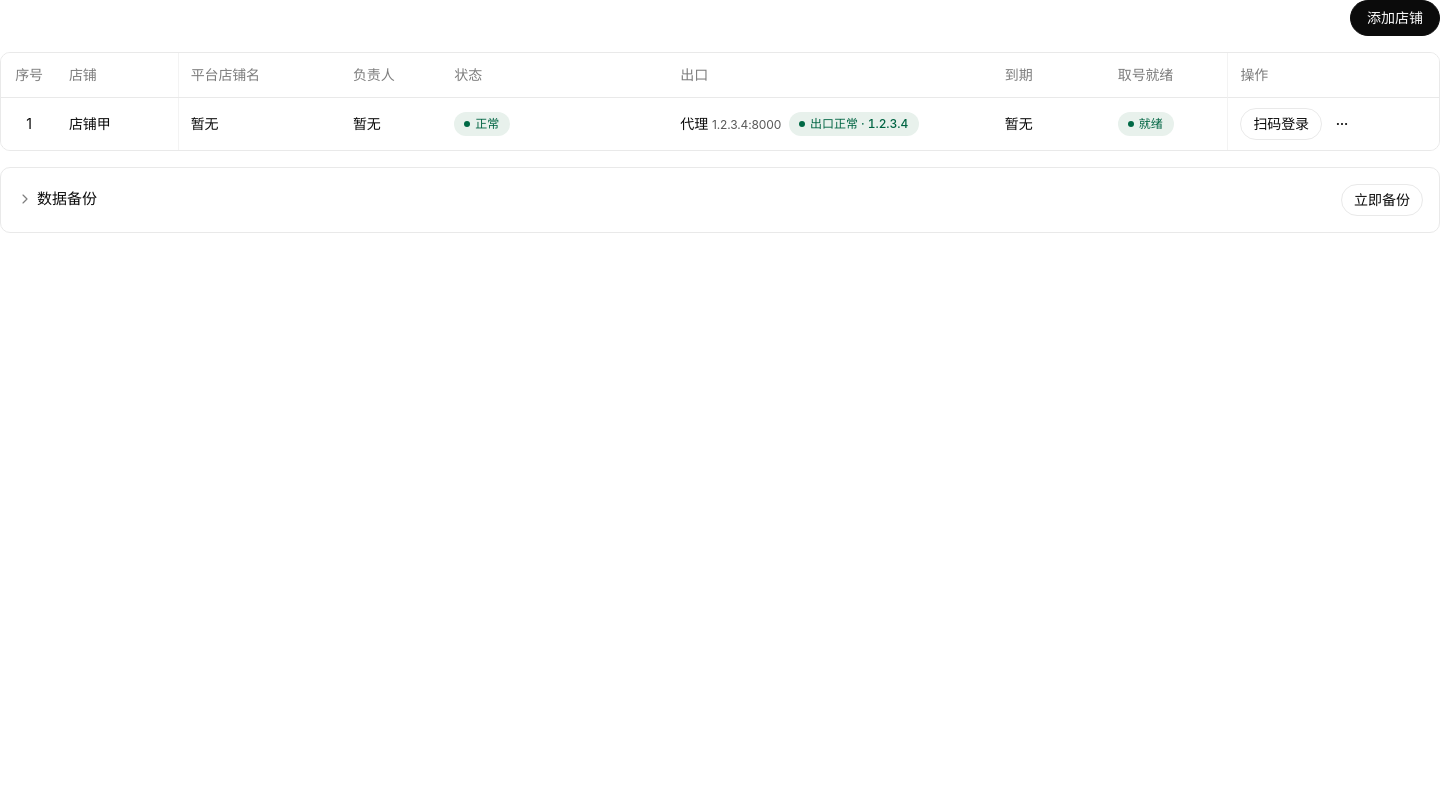
Test: 店铺字段展示与编辑 › 已有收款账户时同步按钮仍可点（作为刷新）
Click the button named "更多操作" at (1342, 124), box [1326, 108, 1358, 140]
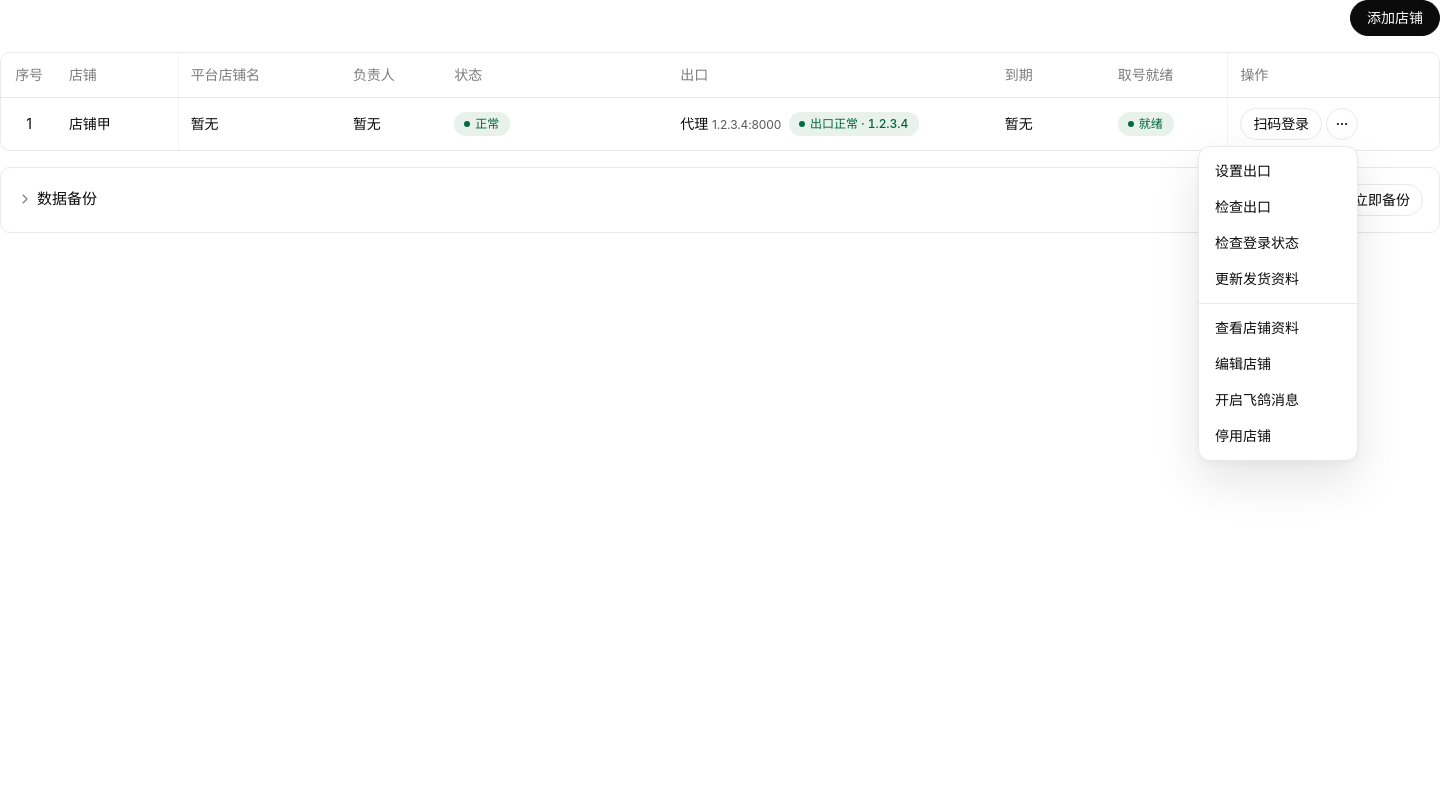
Click the menu item "查看店铺资料" at (1257, 328), box [1215, 319, 1299, 336]
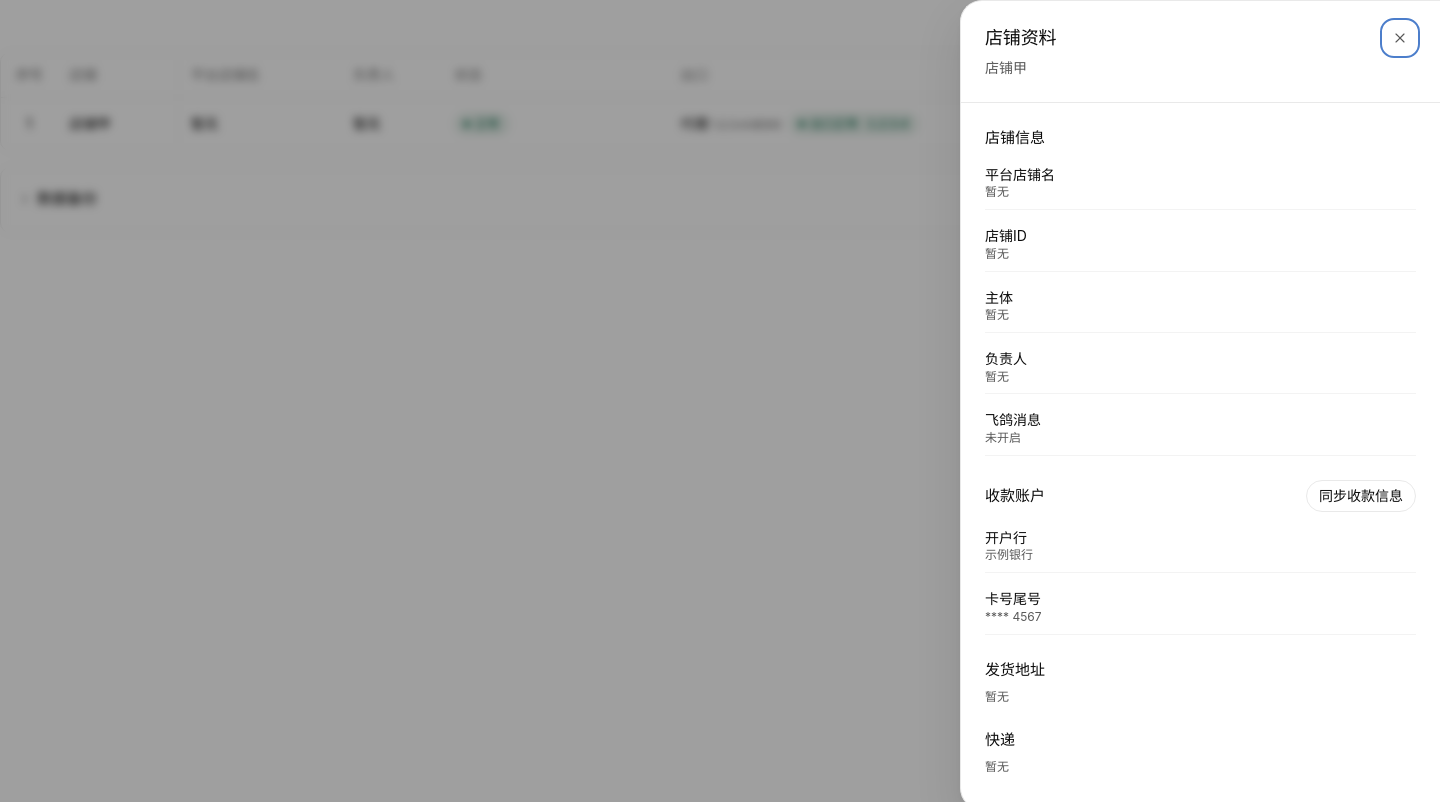
Result: the text "**** 4567" is shown at [985, 609, 1042, 626]
Result: the button "同步收款信息" is enabled at [1306, 480, 1416, 512]
